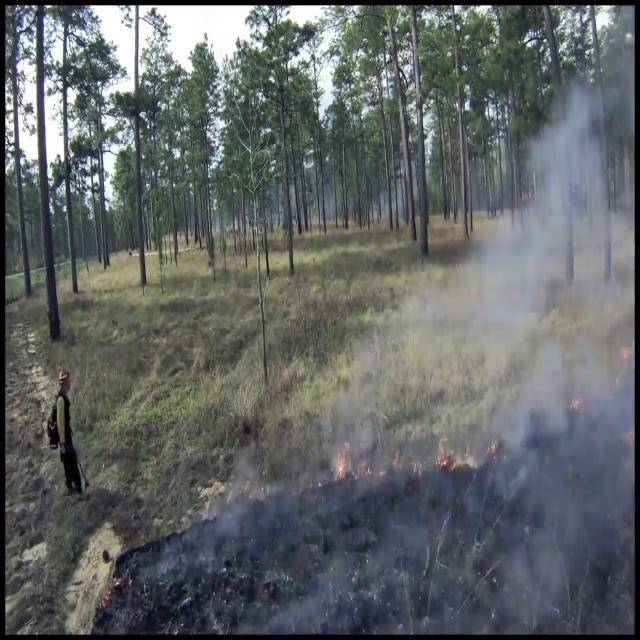Smoke: (403, 73, 634, 636)
